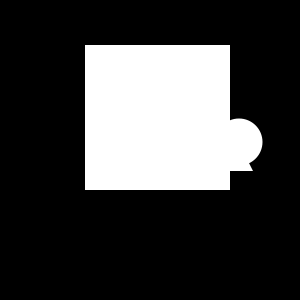circle: (85, 45, 230, 190)
rectangle: (215, 118, 262, 166)
triangle: (132, 50, 253, 171)
